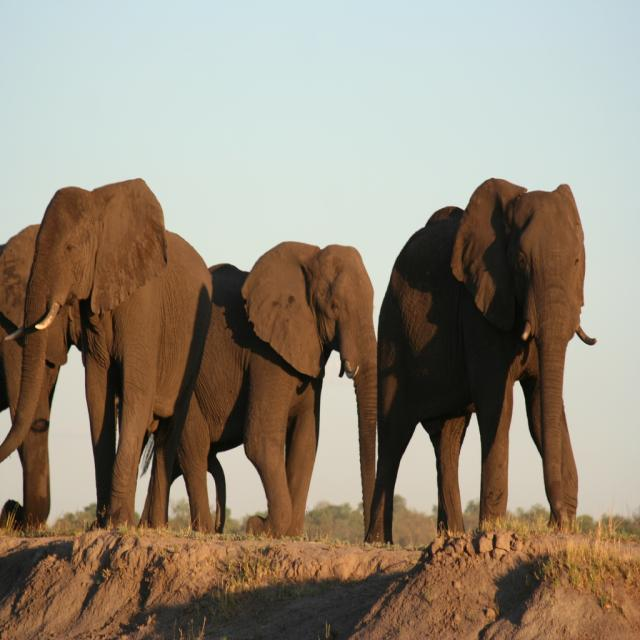Elephant: (364, 177, 597, 546), (0, 177, 215, 533), (138, 239, 378, 541)
